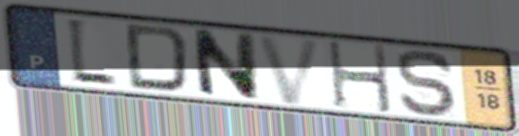D: (123, 22, 193, 95)
H: (324, 39, 396, 116)
L: (63, 15, 119, 91)
N: (188, 26, 262, 103)
S: (394, 47, 462, 120)
V: (253, 33, 327, 108)
